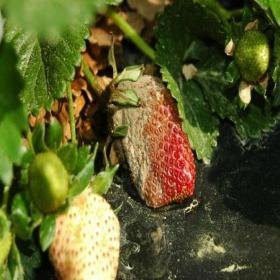Gray Mold: (108, 63, 197, 208)
